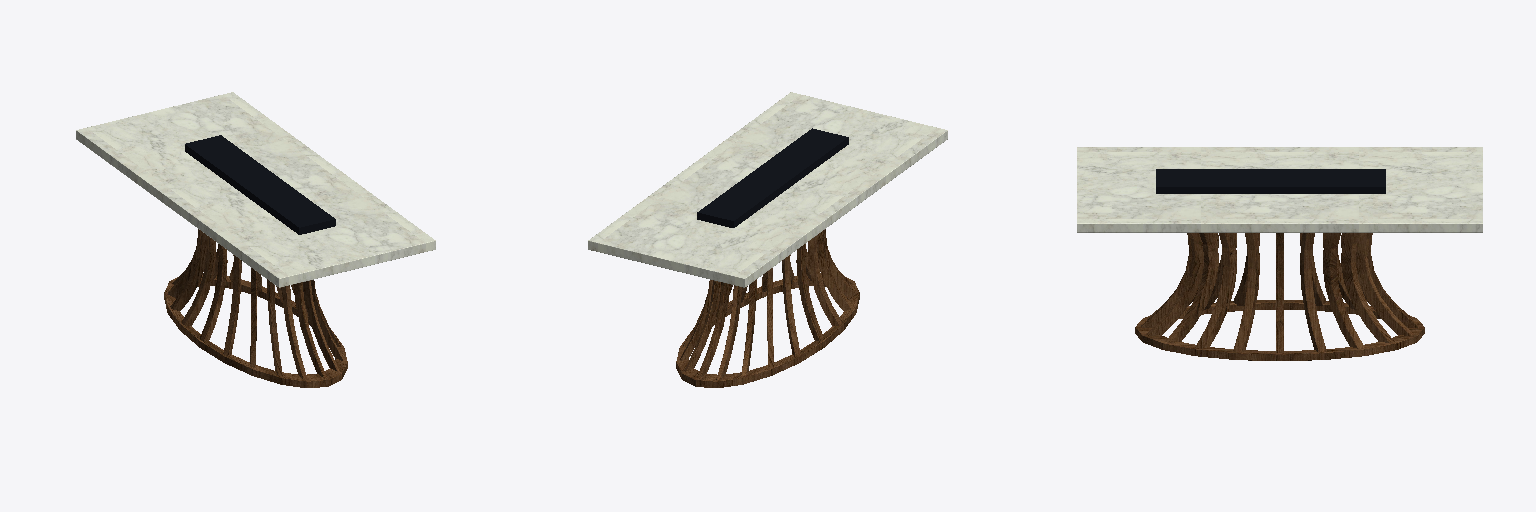
3 views of the same model, side by side, from view 1: azimuth 30°, elevation 25°; view 2: azimuth 150°, elevation 25°; view 3: azimuth 270°, elevation 25° (orthographic).
Visible parts, largest first — view 1: Box01, Object10; view 2: Box01, Object10; view 3: Box01, Object10.
Boxes of the visible parts, <box> form: Box01: <box>76,92,435,287</box>; Object10: <box>164,135,347,387</box>; Box01: <box>588,92,947,287</box>; Object10: <box>676,128,859,387</box>; Box01: <box>1077,147,1482,232</box>; Object10: <box>1135,169,1424,360</box>.
Size of the model in its own units: 87.41 by 82.96 by 196.
Materials: 3 (3 with a texture image).